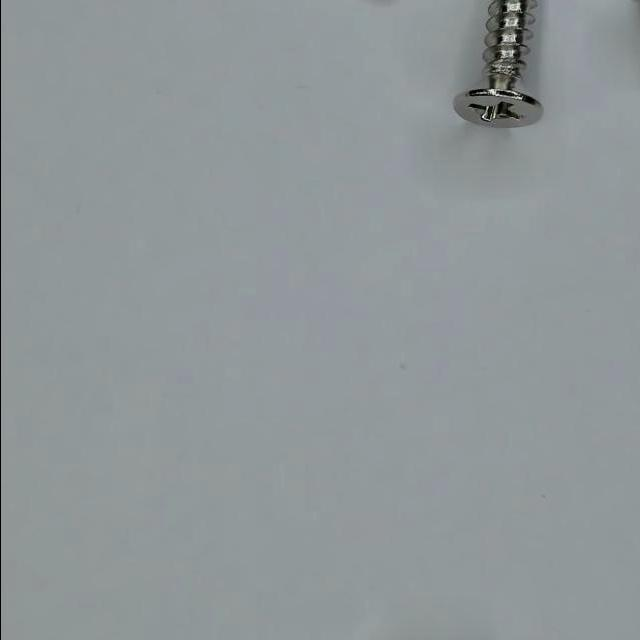Screw: (455, 0, 544, 126)
